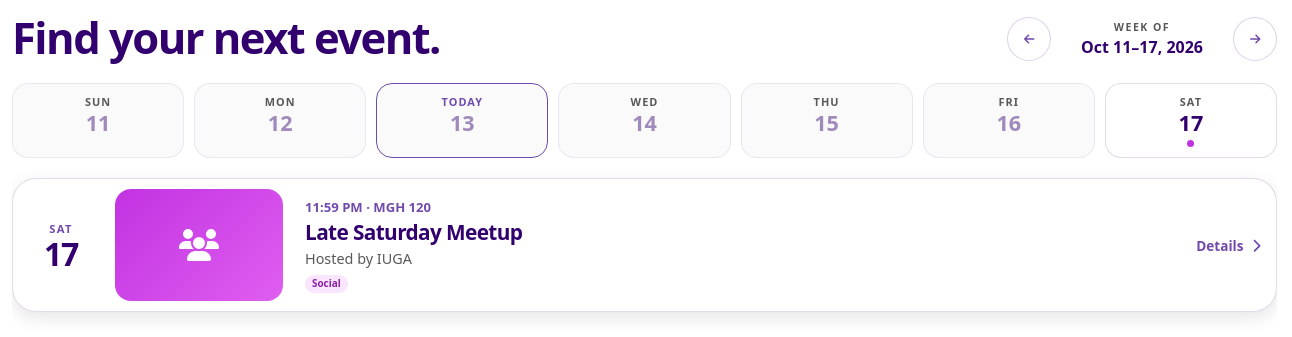
Test case: EventAgenda › an event late on Saturday stays in that week and one at midnight Sunday starts the next
Expected: the button with aria-label "Late Saturday Meetup, Saturday, October 17 at 11:59 PM" is shown, [12,178,1277,312]
Expected: the button "Sunday Midnight Meetup" is not shown
Click the button named "Next week". click: click(1255, 39)
box: [1233,17,1277,61]
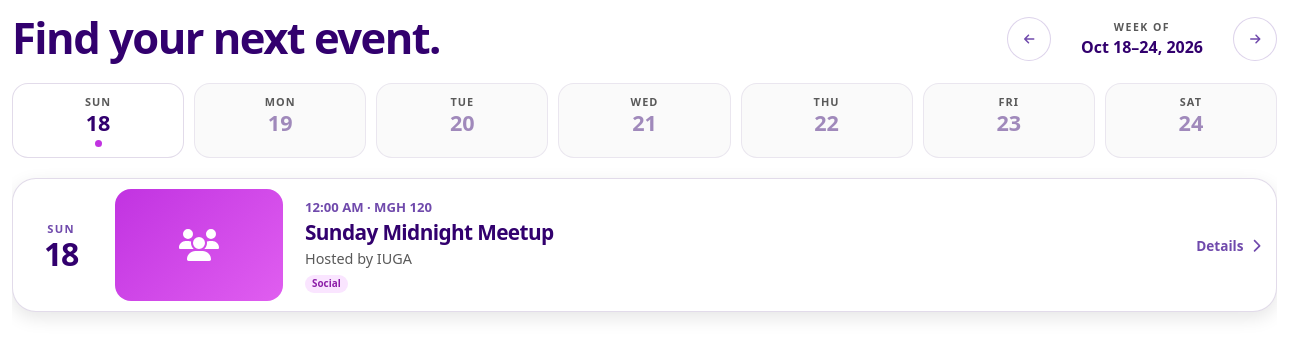
Result: the button with aria-label "Sunday Midnight Meetup, Sunday, October 18 at 12:00 AM" is shown at [12,178,1277,312]
Result: the button "Late Saturday Meetup" is gone
